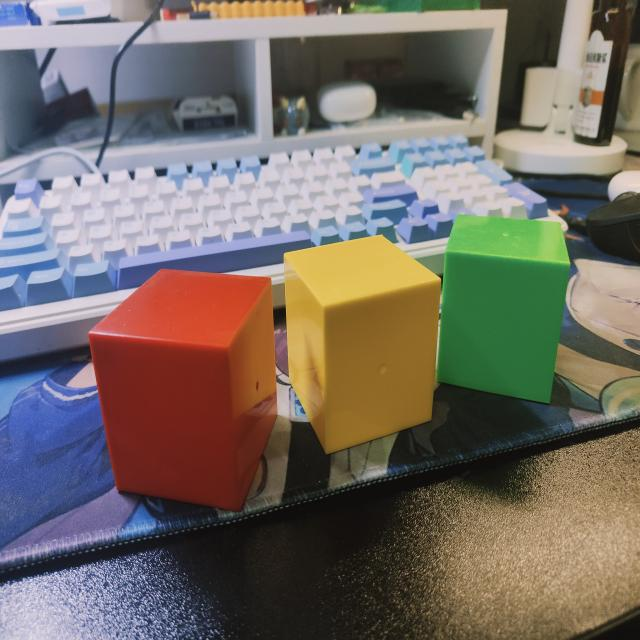green: (436, 216, 573, 405)
red: (88, 268, 279, 512)
yellow: (279, 234, 444, 459)
